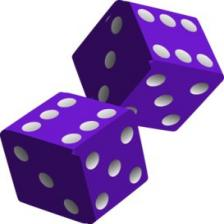purple: (73, 1, 224, 131), (2, 93, 148, 224)
